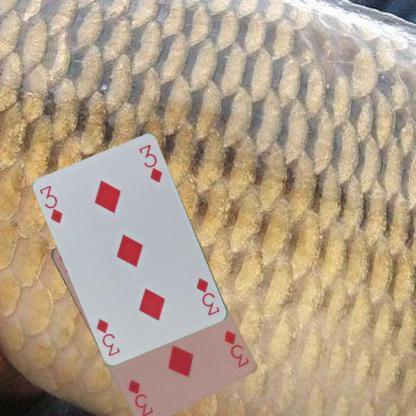3d: (221, 327, 250, 370), (194, 275, 222, 317), (37, 183, 65, 225)
